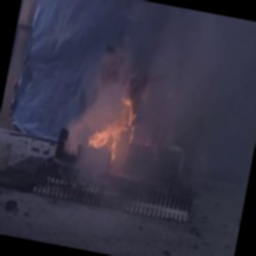fire: (84, 83, 143, 160)
